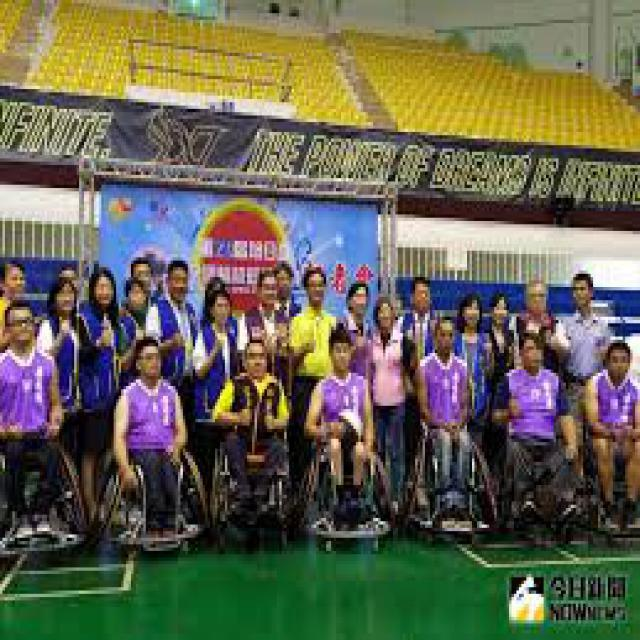wheelchairs: (0, 402, 92, 561), (101, 428, 210, 558), (405, 402, 499, 544), (304, 400, 393, 544), (208, 402, 296, 544), (496, 400, 578, 544), (578, 390, 638, 548)
